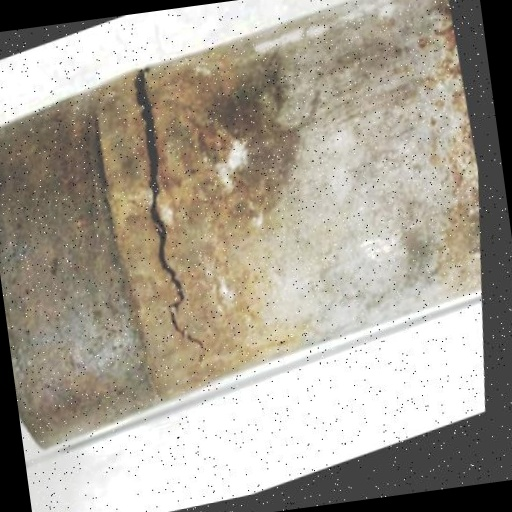crack: (80, 48, 253, 388)
